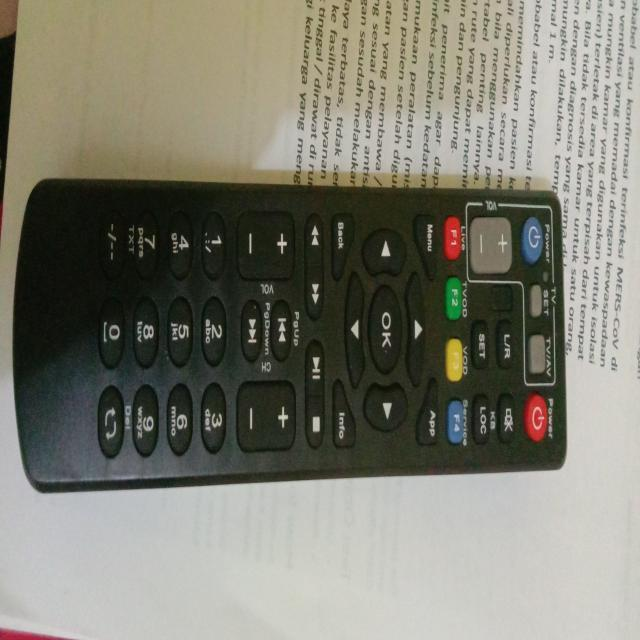remote: (12, 177, 568, 493)
